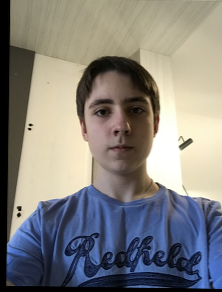without_mask: (85, 91, 154, 176)
